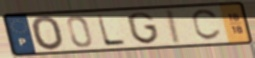0: (65, 15, 94, 49)
C: (190, 8, 223, 42)
G: (126, 11, 161, 46)
I: (166, 8, 184, 47)
L: (95, 13, 128, 47)
O: (30, 15, 66, 52)
